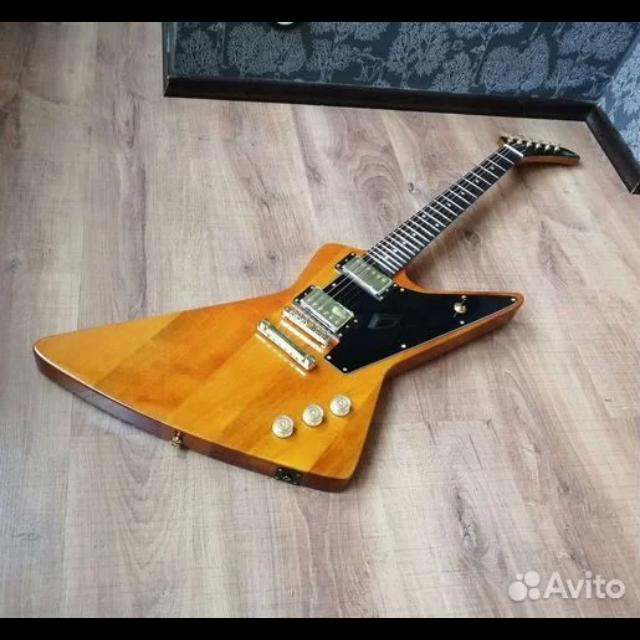Electric-Guitar: (34, 136, 580, 492)
